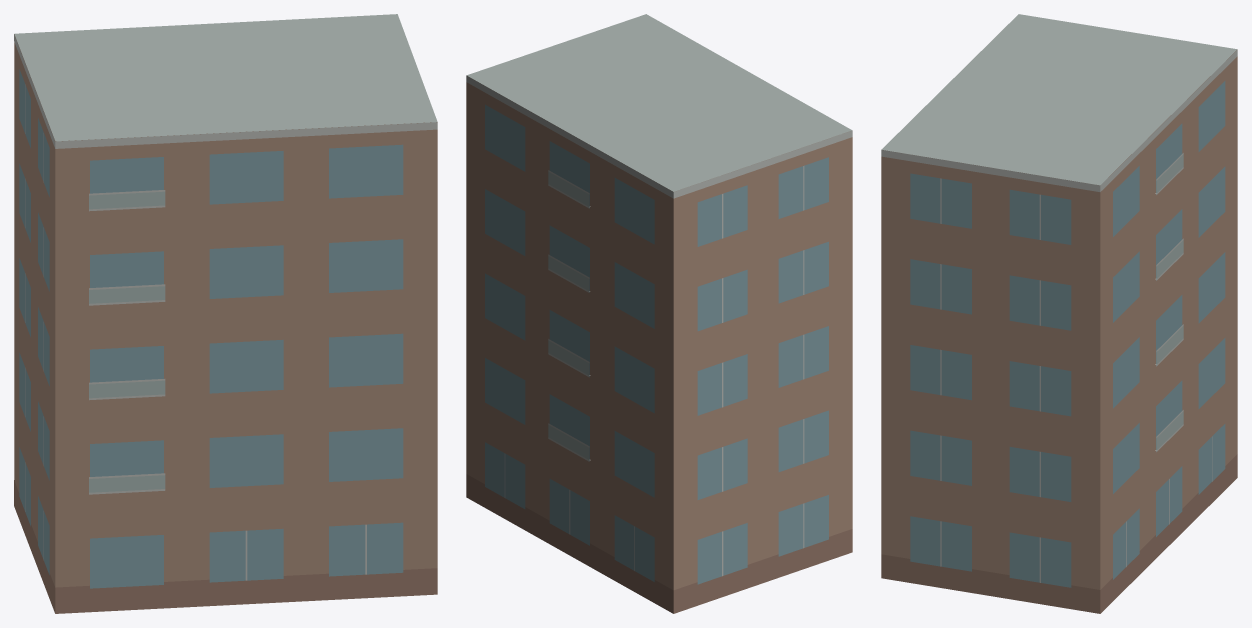
Rendered from survey-upis-32875956.glb.
The picture shows the model from 3 angles, left to right: view 1: azimuth 30°, elevation 25°; view 2: azimuth 150°, elevation 25°; view 3: azimuth 270°, elevation 25°; orthographic projection. The views are drawn at different scales.
Parts seen in each view (by area): view 1: survey-upis-32875956.tmp; view 2: survey-upis-32875956.tmp; view 3: survey-upis-32875956.tmp.
Part boxes in pixels (<box>): survey-upis-32875956.tmp: <box>14,14,437,613</box>; survey-upis-32875956.tmp: <box>466,14,852,613</box>; survey-upis-32875956.tmp: <box>881,14,1237,613</box>.
Size of the model in its own units: 13.13 by 15.3 by 11.54.
